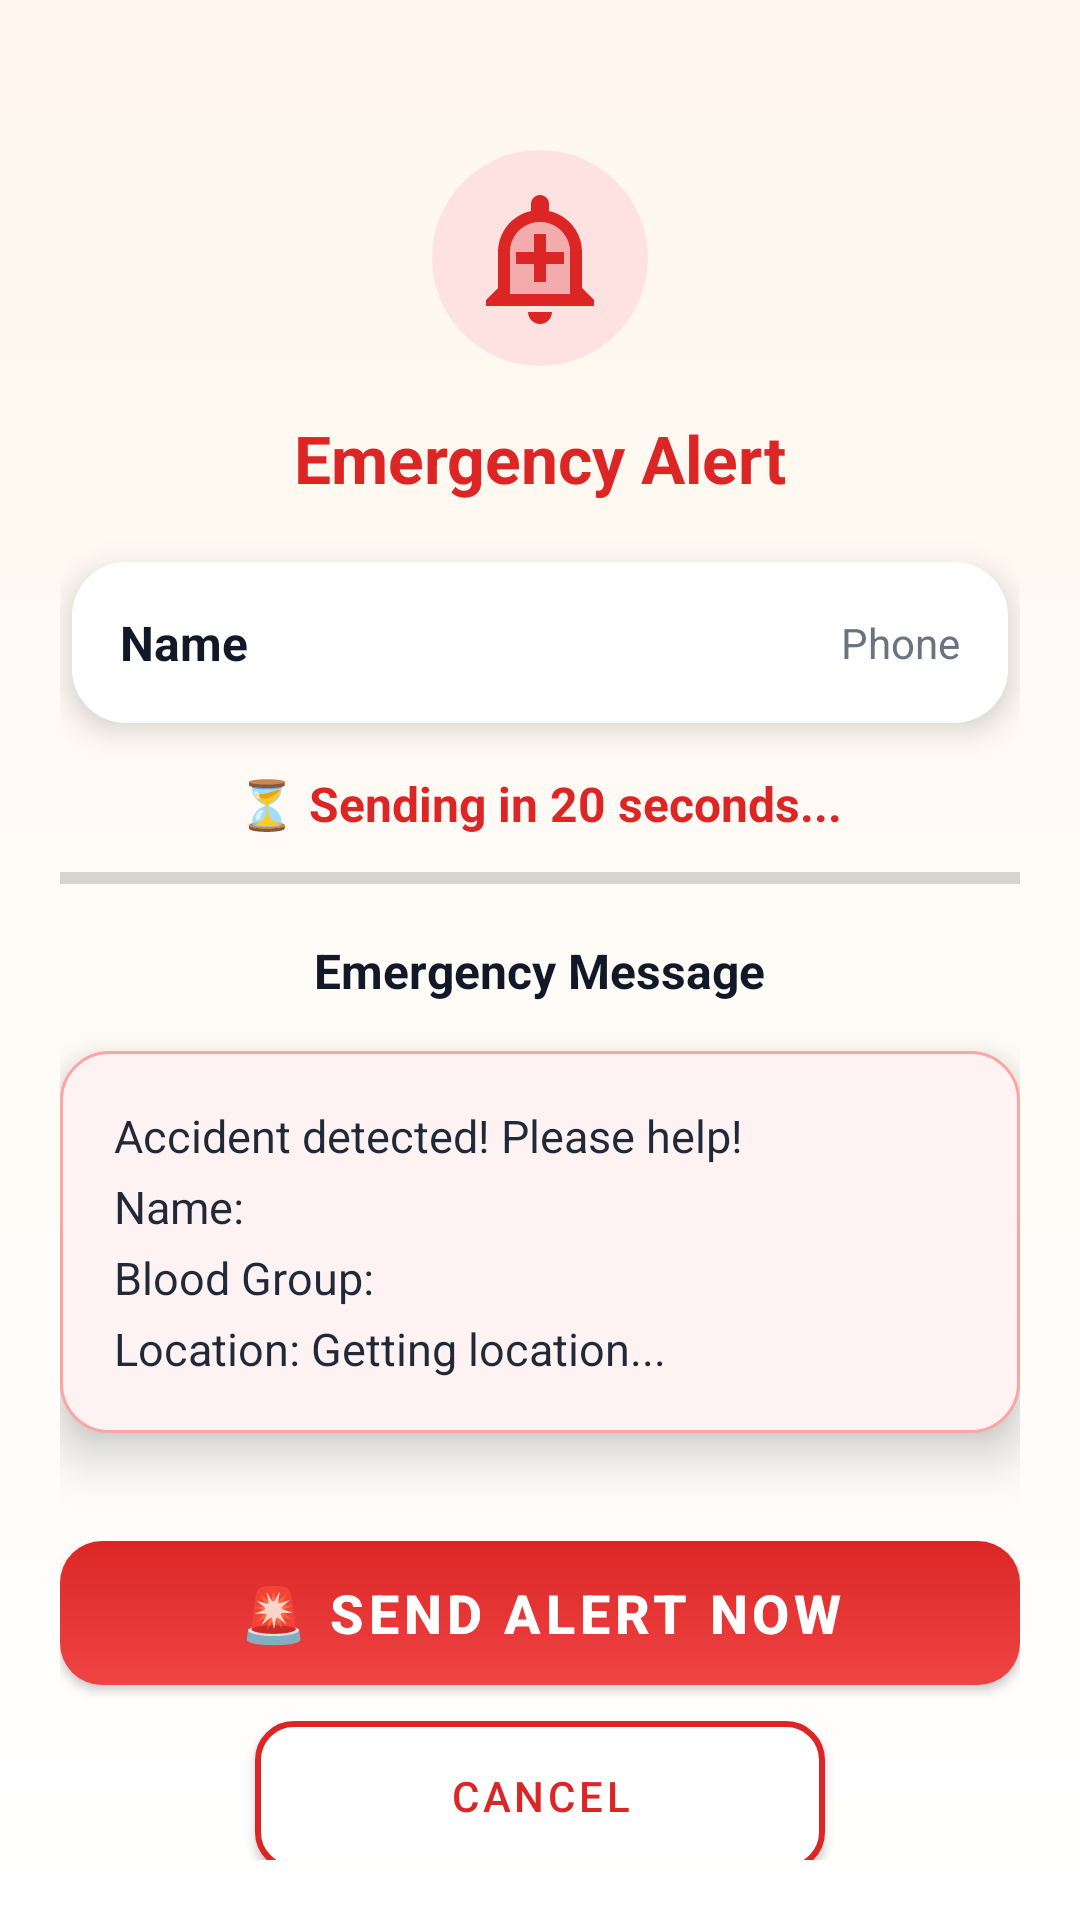

Locate icon controls on the screen. Image size 1080*1920, boxes as bbox(x1, y1, x2, y2).
alarm: bbox(486, 195, 594, 324)
